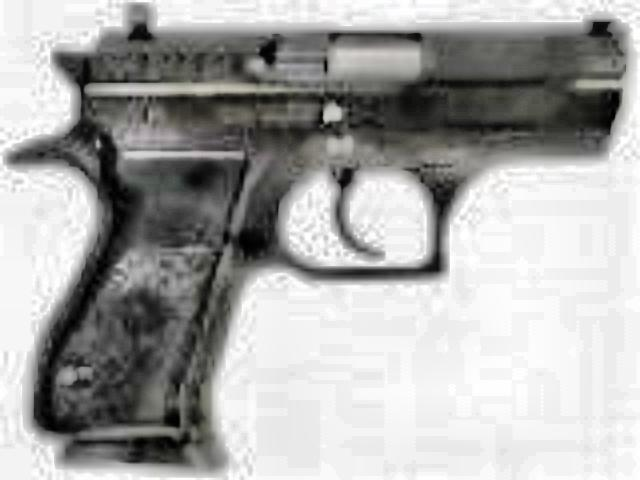pistol: (20, 8, 624, 460)
